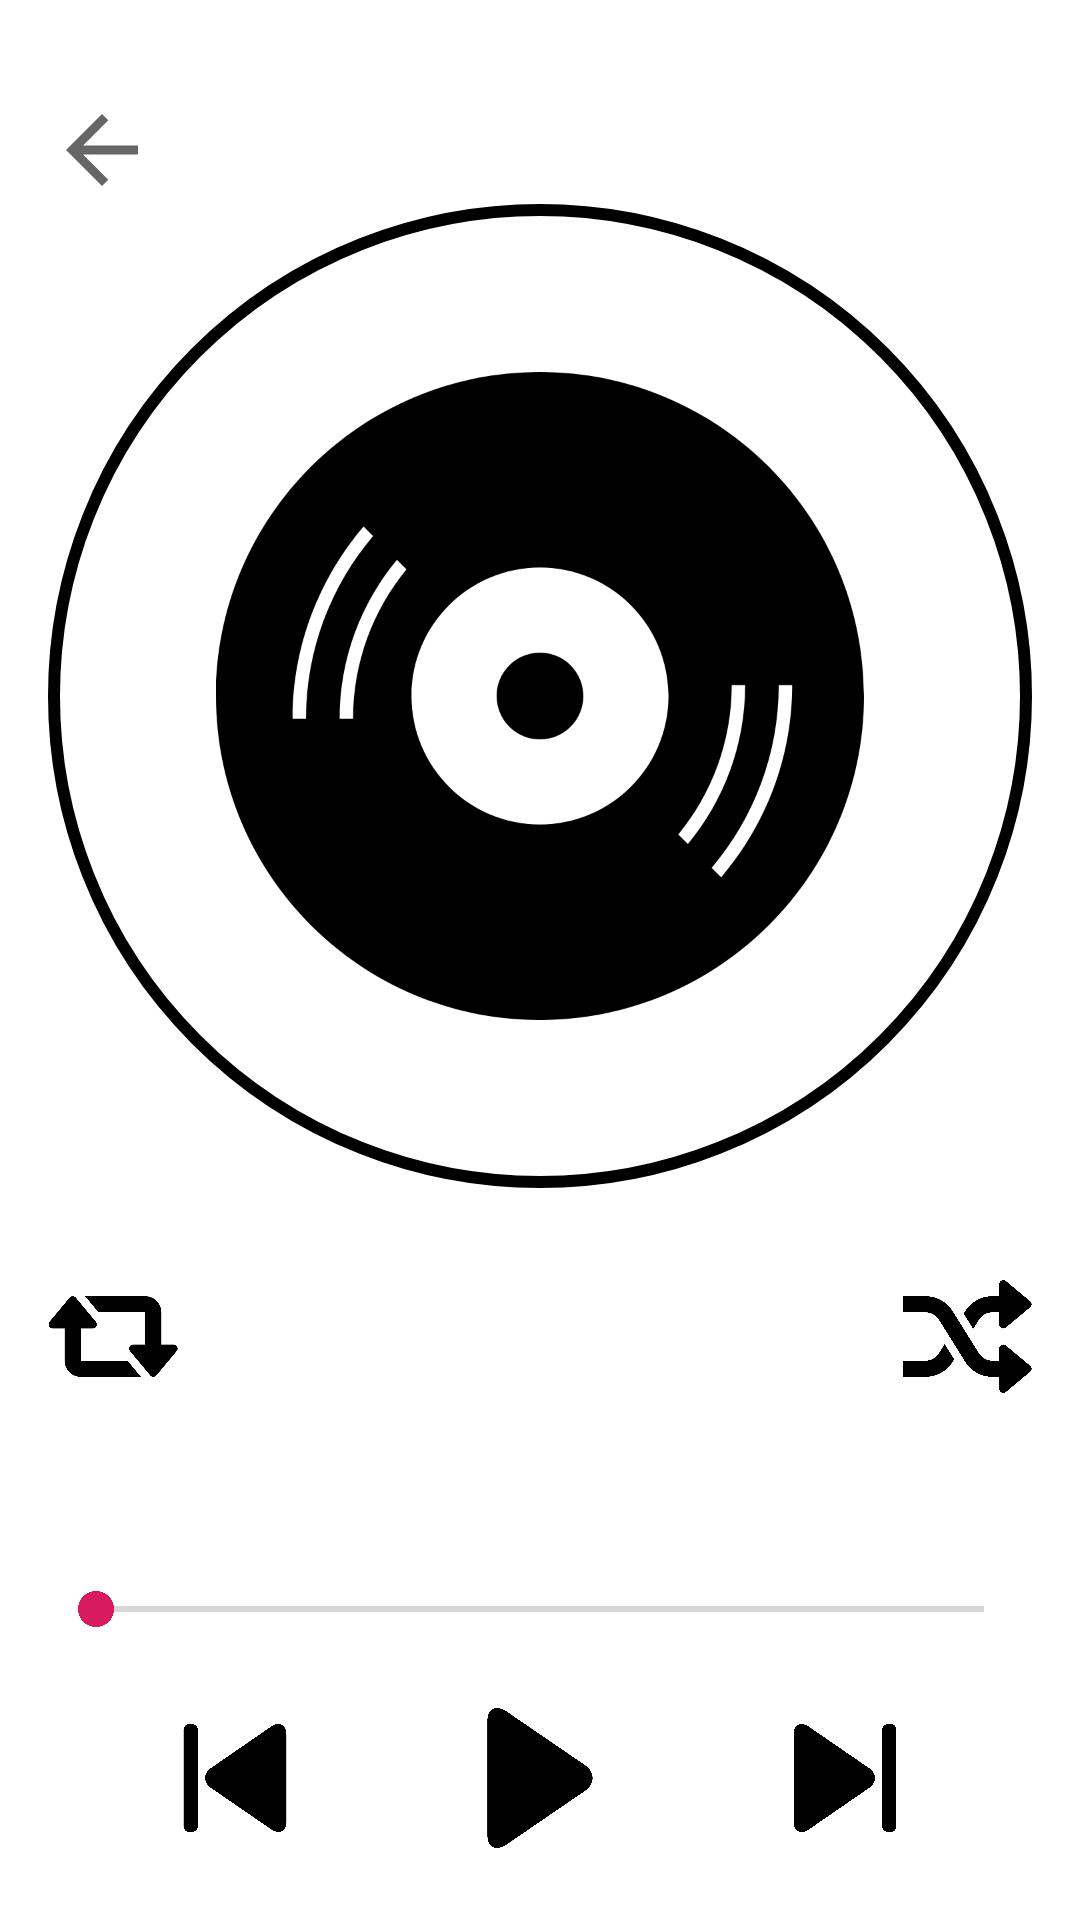

Screen size 1080 × 1920. Icon name, then its center in pixels as [x,y]:
play pause: [540,1778]
random: [967,1336]
repeat: [113,1336]
